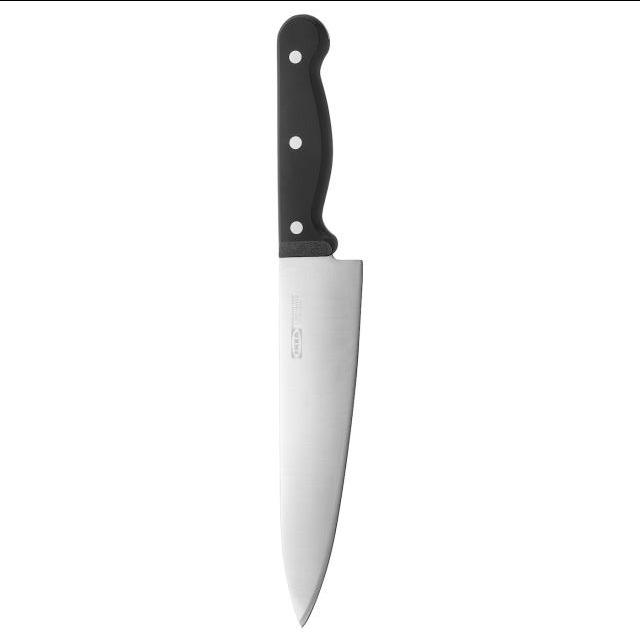knife: (268, 12, 367, 630)
